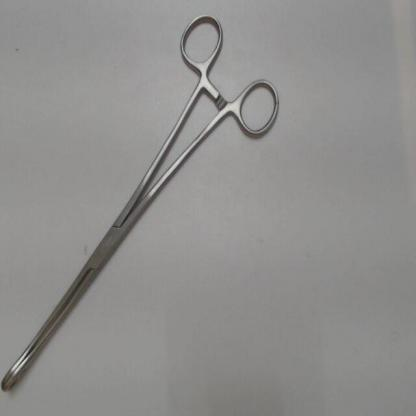Sponge Forceps: (0, 4, 289, 398)
